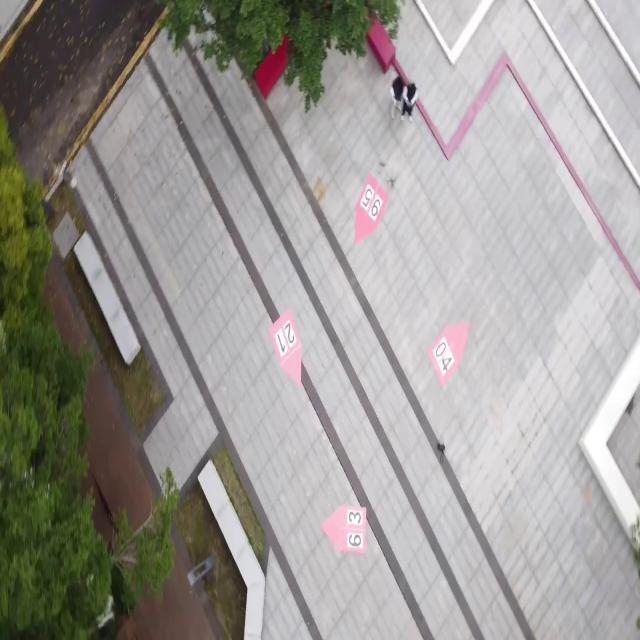-sign-: (424, 307, 476, 385), (263, 301, 307, 387), (319, 489, 371, 558), (351, 164, 392, 243)
